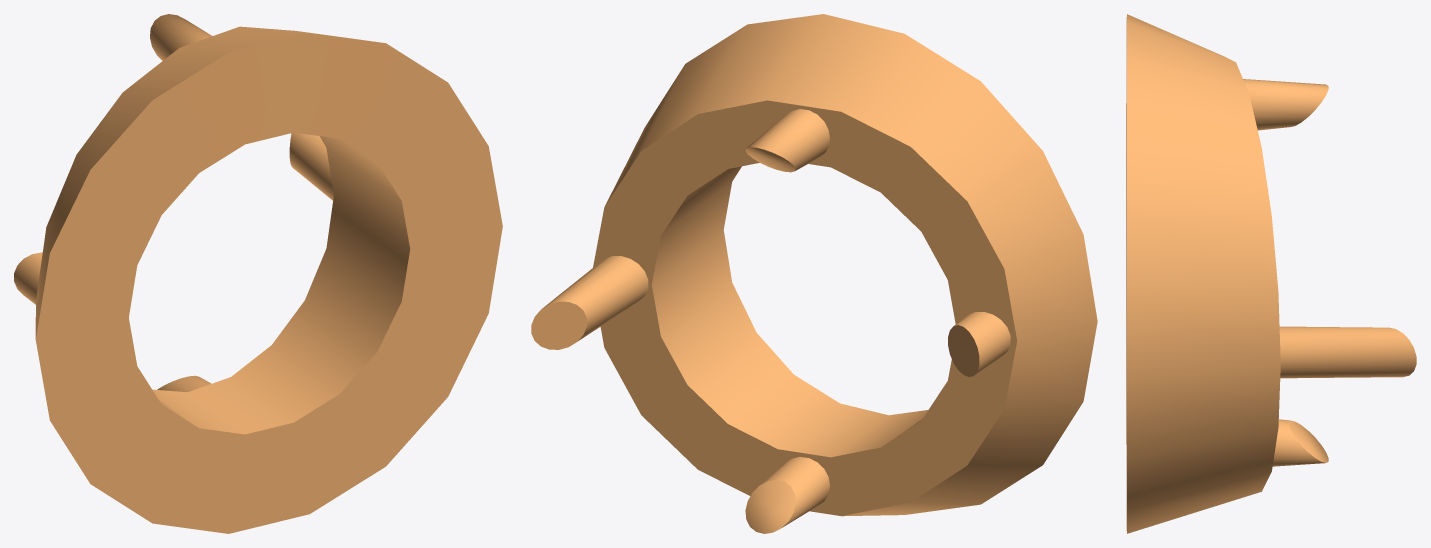
Rendered from tee.glb.
The picture shows the model from 3 angles, left to right: view 1: azimuth 30°, elevation 25°; view 2: azimuth 150°, elevation 25°; view 3: azimuth 270°, elevation 25°; orthographic projection. The views are drawn at different scales.
Visible parts, largest first — view 1: KickingTee; view 2: KickingTee; view 3: KickingTee.
Part boxes in pixels (x1,y1,x2,y2): KickingTee: (14,14,502,533); KickingTee: (531,14,1097,533); KickingTee: (1126,14,1416,533).
Size of the model in its own units: 0.1428 by 0.1406 by 0.0794.
